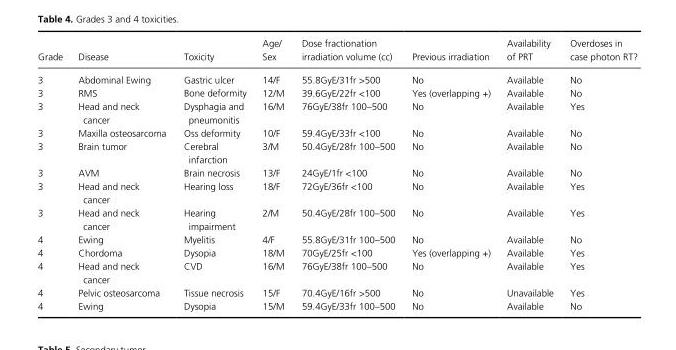table: (37, 37, 636, 311)
table column: (292, 37, 402, 311), (69, 37, 174, 311), (402, 37, 497, 311), (174, 37, 253, 311), (561, 37, 636, 311), (497, 37, 561, 311), (253, 37, 292, 311), (37, 37, 69, 311)
table column header: (37, 37, 636, 67)
table row: (37, 37, 636, 67), (37, 205, 636, 232), (37, 258, 636, 285), (37, 99, 636, 125), (37, 139, 636, 165), (37, 179, 636, 205), (37, 67, 636, 85), (37, 85, 636, 99), (37, 125, 636, 139), (37, 165, 636, 179), (37, 232, 636, 245), (37, 245, 636, 258), (37, 285, 636, 298), (37, 298, 636, 311)
